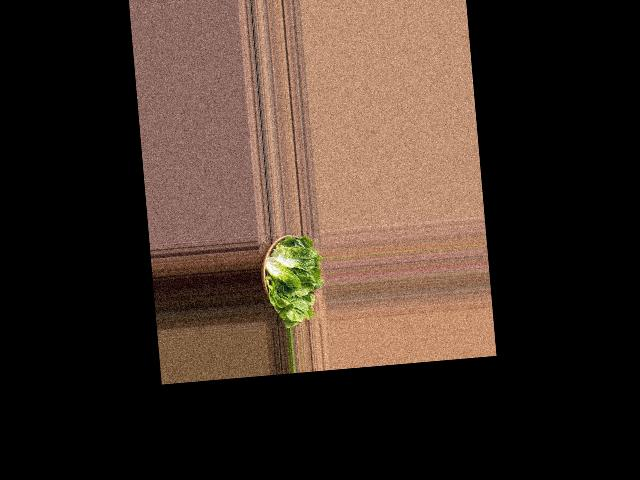lettuce: (258, 229, 324, 328)
